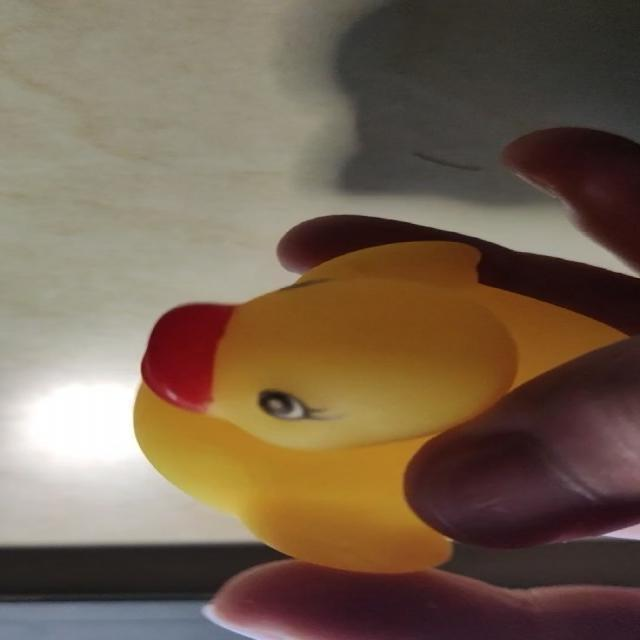rubber-duck: (133, 240, 621, 570)
